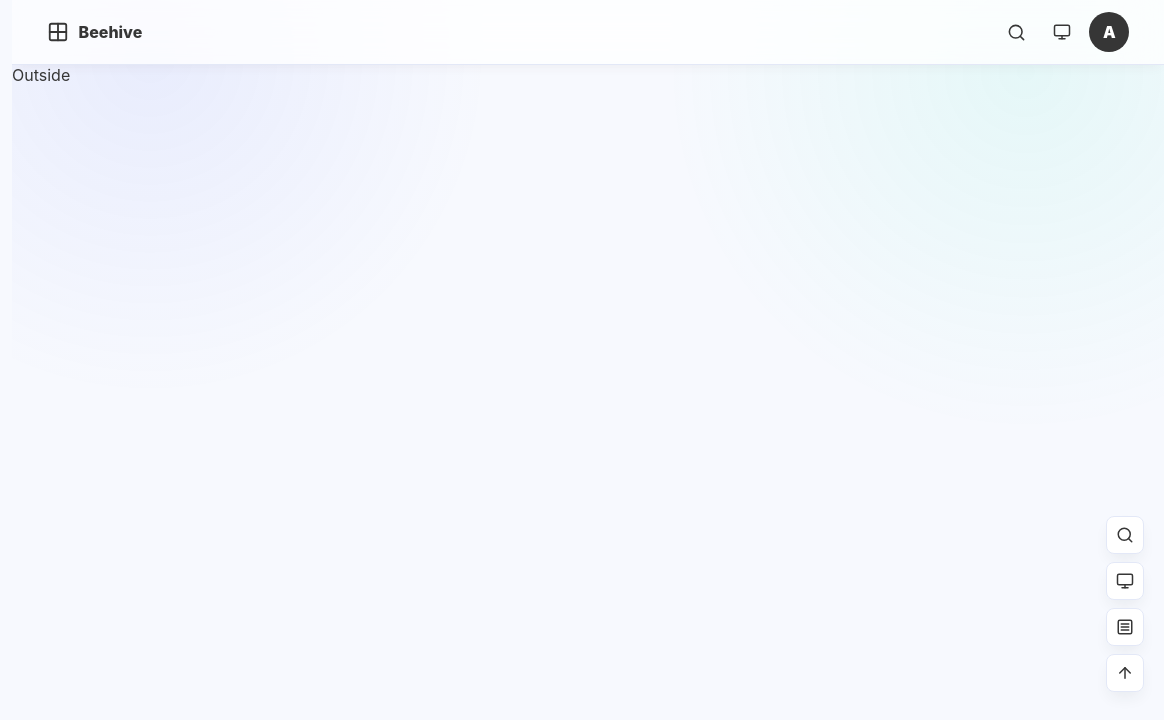
Test: SiteHeader › closes the user menu when clicking outside
The width and height of the screenshot is (1164, 720).
Click the button named "打开用户菜单": (1110, 32) [1090,12,1130,52]
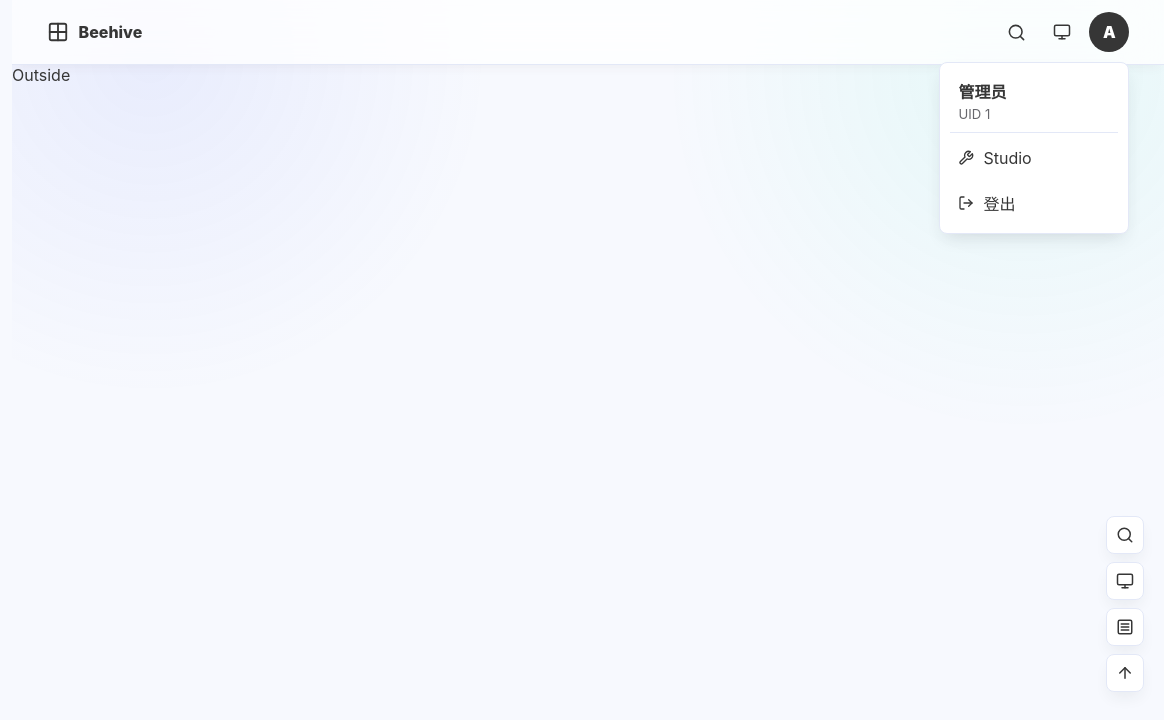
Check: the menu item "登出" is shown, box [950,183,1118,223]
Press the mouse on the text with test id "outside": (41, 75) [12,65,70,85]
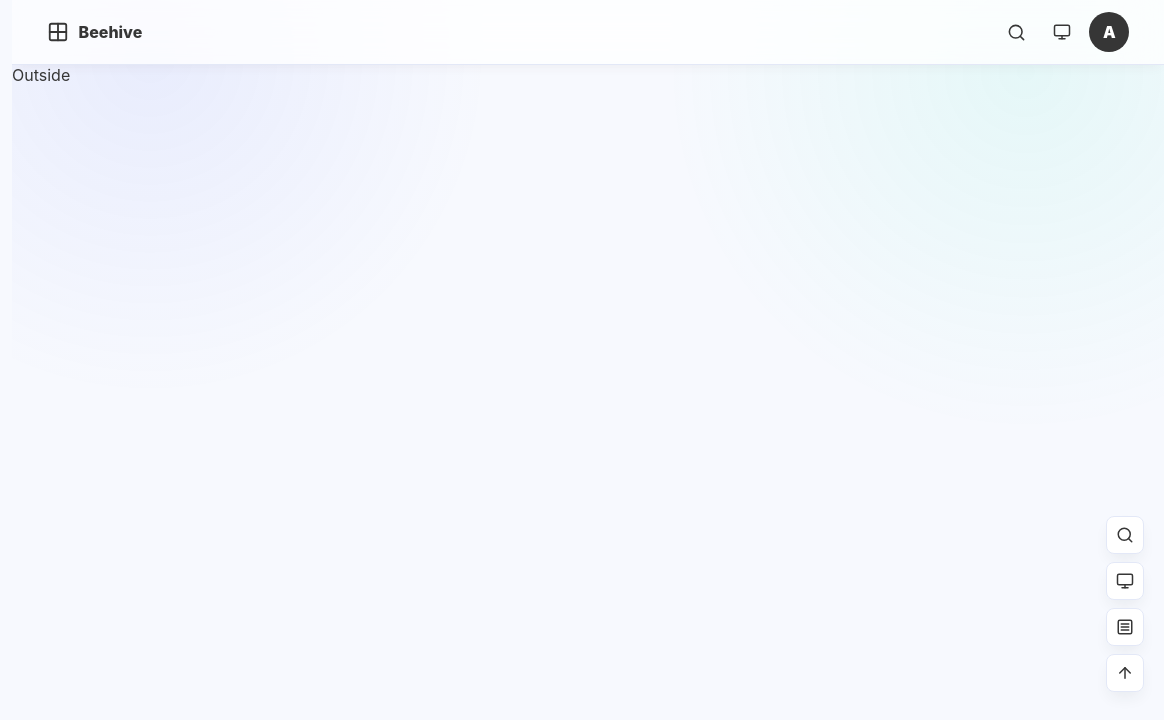
Check: the menu item "登出" is gone
